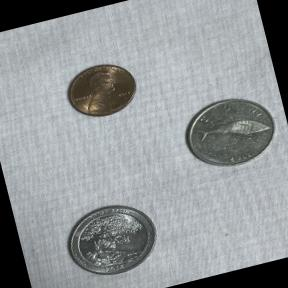coin: (50, 190, 171, 288), (171, 84, 288, 183), (52, 46, 152, 131)
